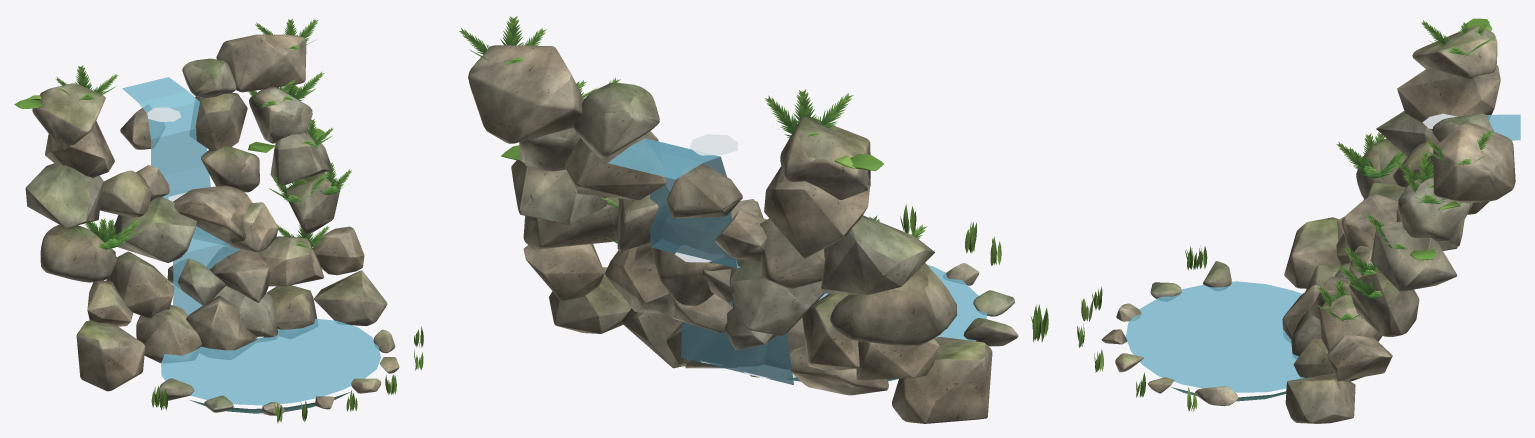
Rendered from waterfall.gltf.
3 views of the same model, side by side, from view 1: azimuth 30°, elevation 25°; view 2: azimuth 150°, elevation 25°; view 3: azimuth 270°, elevation 25° (orthographic). The views are drawn at different scales.
Visible parts, largest first — view 1: Stones, Water, Greenery, Rocks, Foam; view 2: Stones, Water, Greenery, Rocks, Foam; view 3: Stones, Water, Greenery, Rocks.
Boxes of the visible parts, box(x1,y1,x2,y2) form: Stones: box(25, 34, 399, 415); Water: box(122, 77, 380, 405); Greenery: box(55, 19, 351, 250); Rocks: box(14, 86, 423, 422); Foam: box(147, 107, 263, 338); Stones: box(468, 45, 1018, 423); Water: box(608, 138, 987, 384); Greenery: box(459, 16, 935, 250); Rocks: box(501, 145, 1048, 381); Foam: box(675, 134, 795, 378); Stones: box(1101, 26, 1515, 423); Water: box(1125, 114, 1520, 392); Greenery: box(1316, 20, 1496, 321); Rocks: box(1077, 18, 1491, 410).
Size of the model in its own units: 5.93 by 4.73 by 6.57.
Materials: 11 (2 with a texture image).
